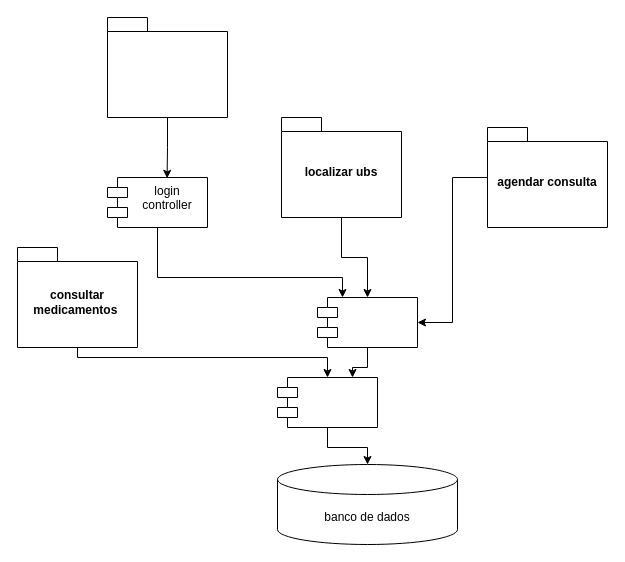
Some shapes in this 625 by 562 pixel diagram are drawn without their labels. Each missing label, with the centre of its shape:
"API" belongs at point (327, 402).
"login" belongs at point (167, 67).
"serviços" belongs at point (367, 322).
